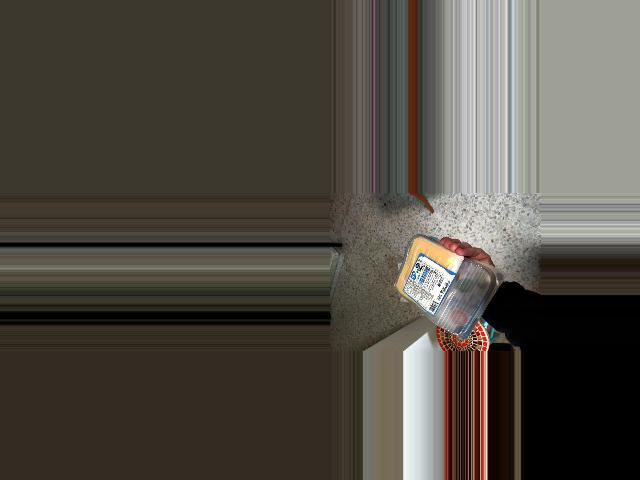cheese: (391, 241, 477, 345)
